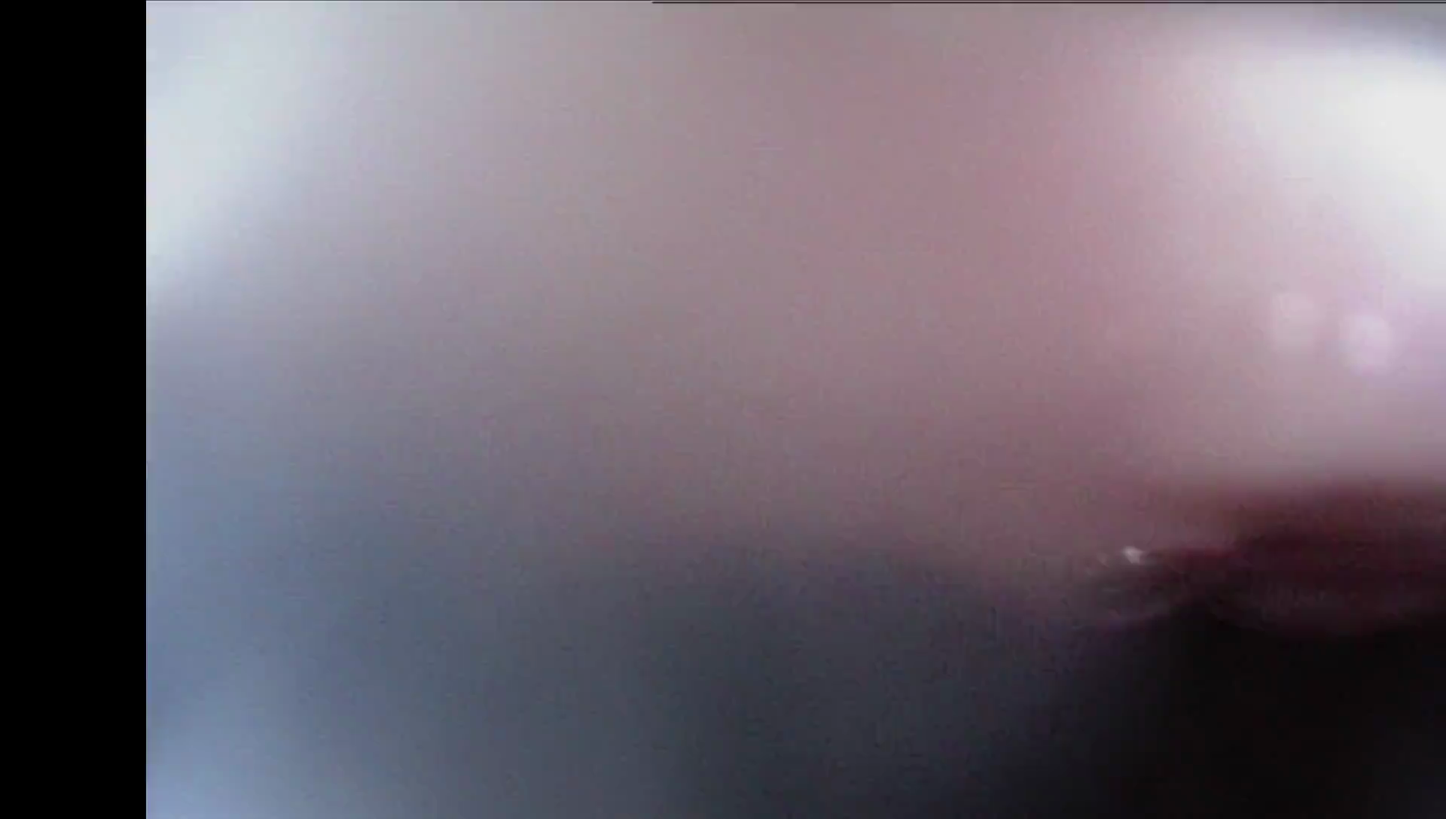close_wall: (155, 0, 1446, 467)
next: (970, 507, 1446, 819)
